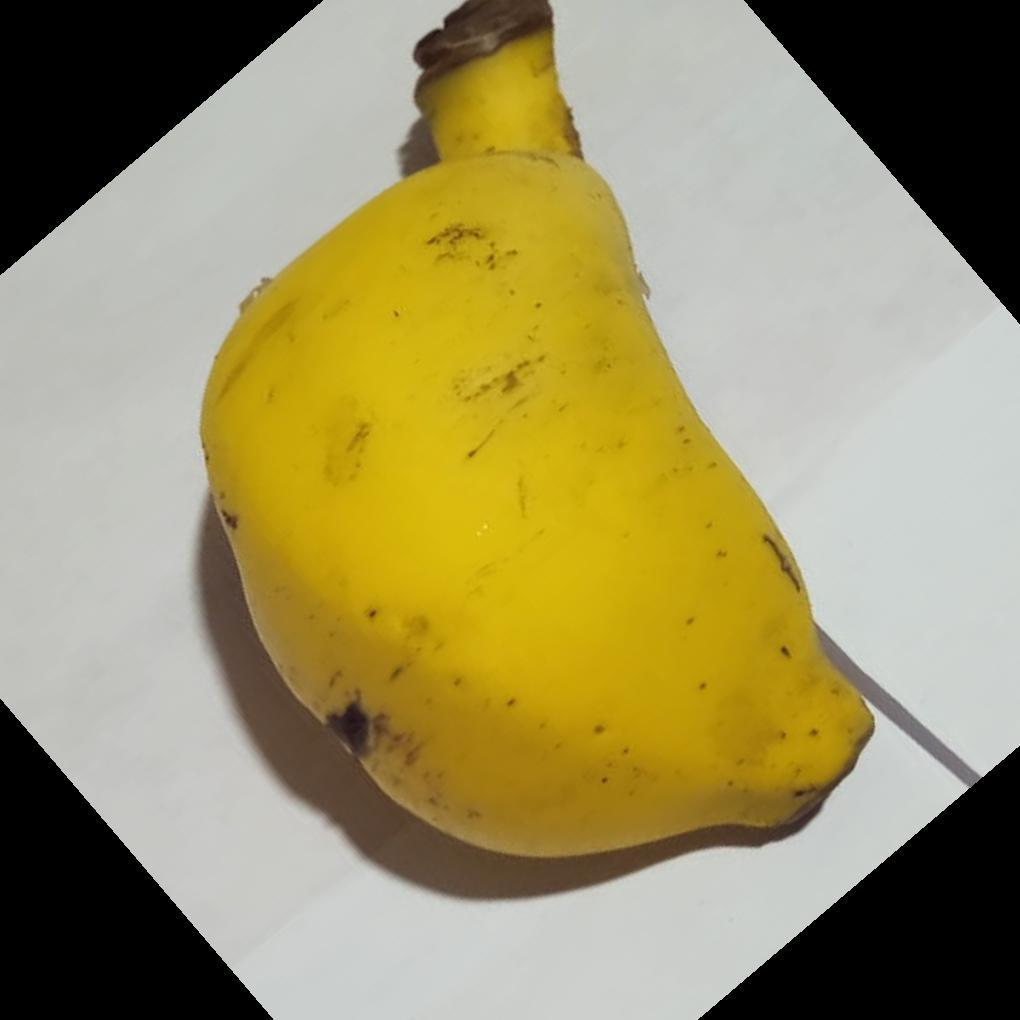Banana Ripe: (179, 24, 882, 911)
